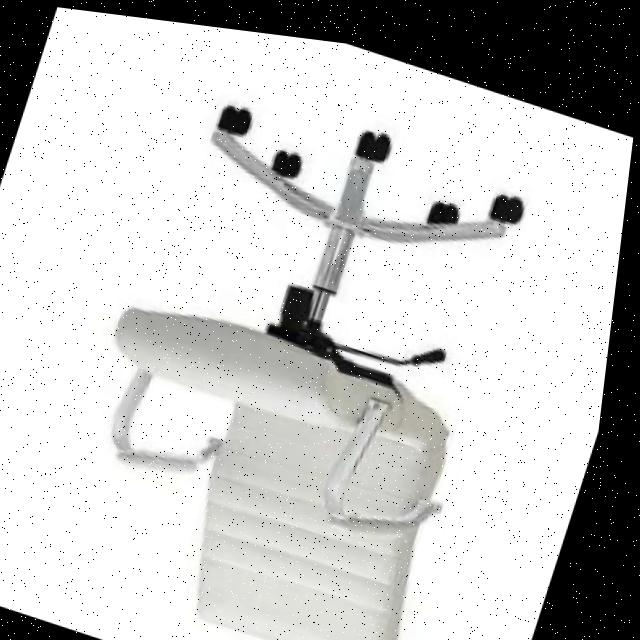sandalye: (44, 59, 558, 640)
